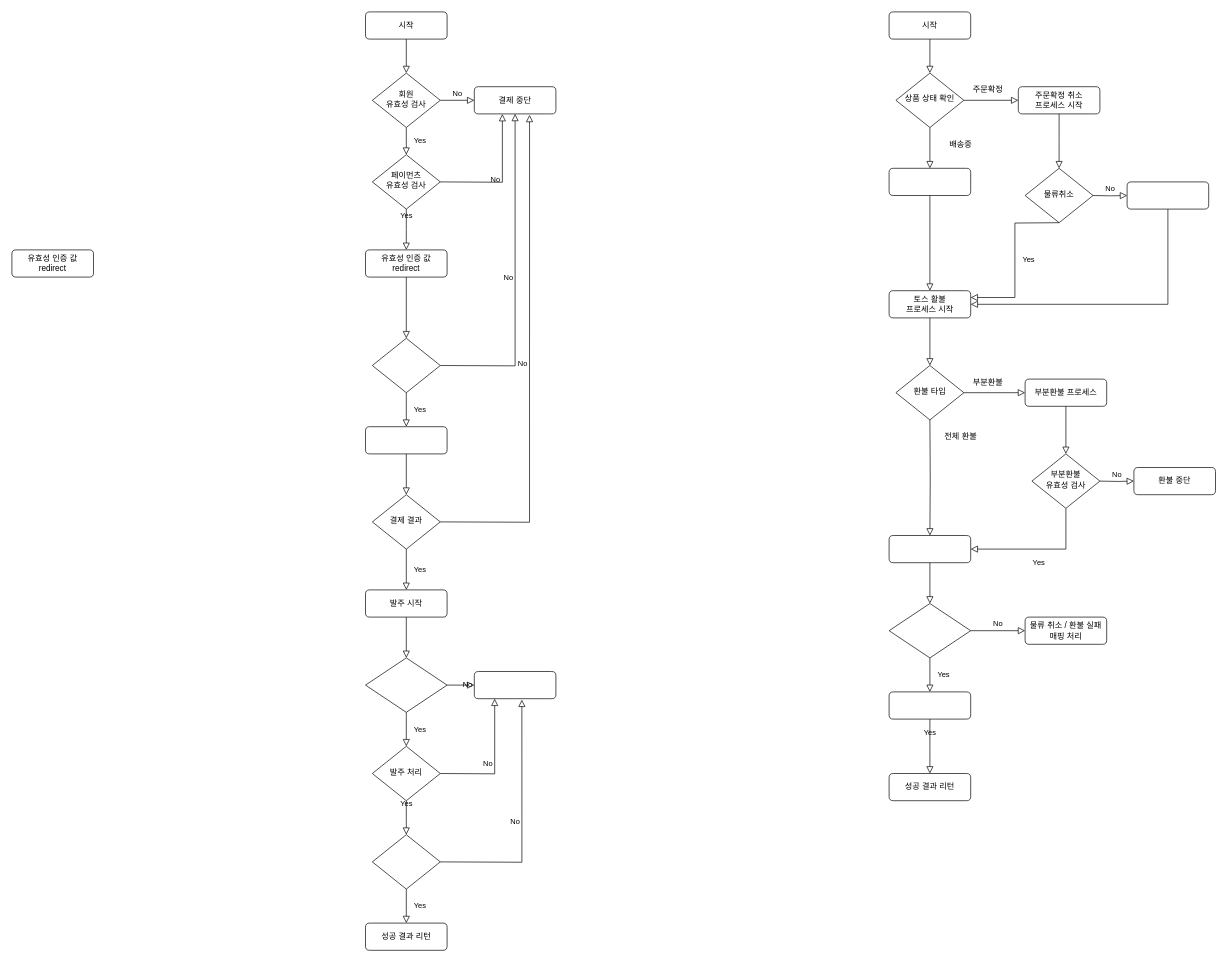
Some shapes in this 1227 by 962 pixel diagram are drawn without their labels. Here are the shapes that lost their labels. From the top down, the box of each, then its label:
(888, 168, 971, 196): 배송중 취소 프로세스 시작
(1126, 181, 1209, 209): 취소 실패 데이터처리
(372, 338, 440, 393): 인증값 검사
(365, 426, 447, 454): 결제 시작
(888, 535, 971, 563): 환불 시작
(888, 603, 971, 658): 환불 결과
(365, 657, 447, 712): 발주 유효성 검사
(474, 671, 556, 699): 발주 취소 / 결제 환불
(888, 691, 971, 719): 환불 이력 처리
(372, 834, 440, 889): SAP 처리
